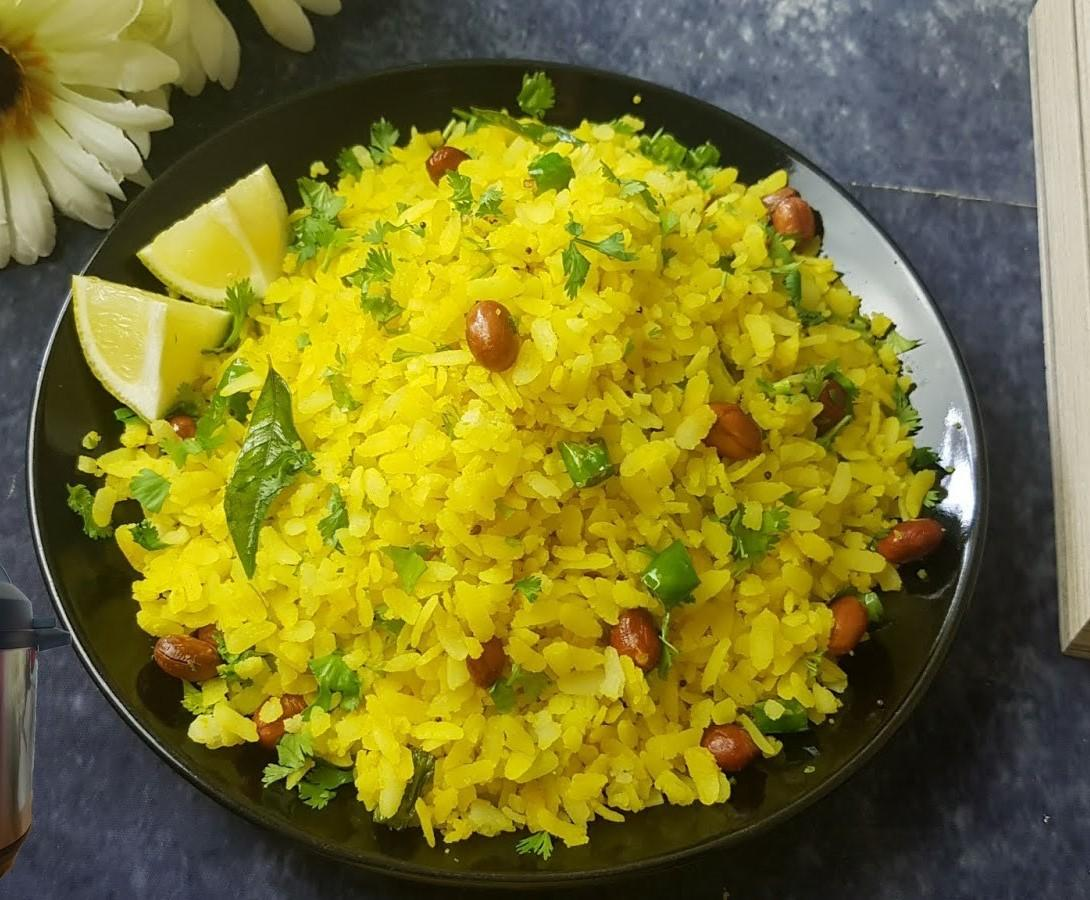Poha: (97, 112, 942, 847)
